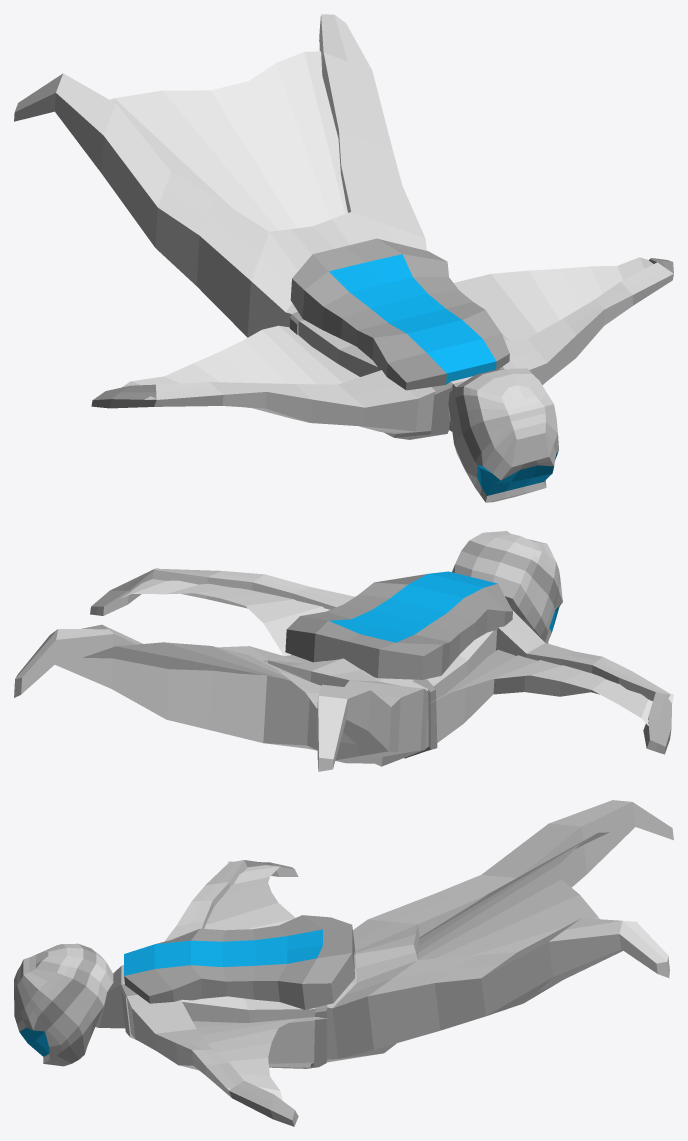
The model's file is wingsuit_lowpoly_white.fbx.
The picture shows the model from 3 angles, top to bottom: view 1: azimuth 30°, elevation 25°; view 2: azimuth 150°, elevation 25°; view 3: azimuth 270°, elevation 25°; orthographic projection. The views are drawn at different scales.
Visible parts, largest first — view 1: body; view 2: body; view 3: body.
Part boxes in pixels (left/top/right/bottom): body: left=14, top=14, right=673, bottom=502; body: left=14, top=531, right=673, bottom=771; body: left=14, top=800, right=673, bottom=1126.
Size of the model in its own units: 796 by 299 by 877.
